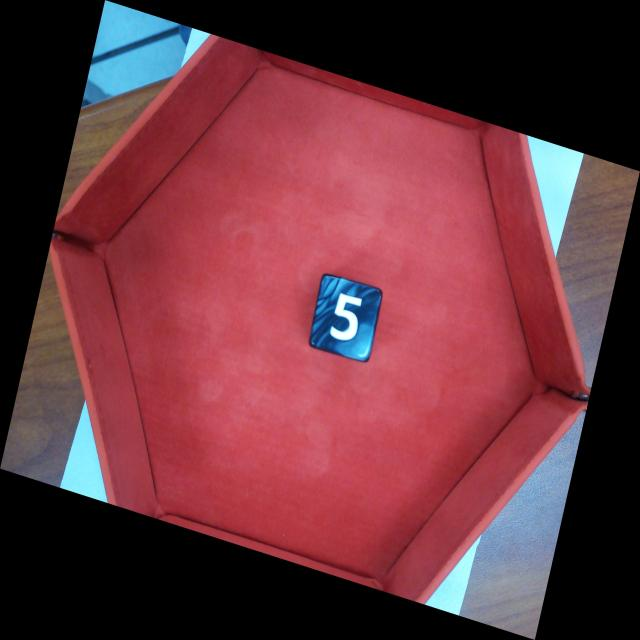dice: (312, 274, 382, 362)
